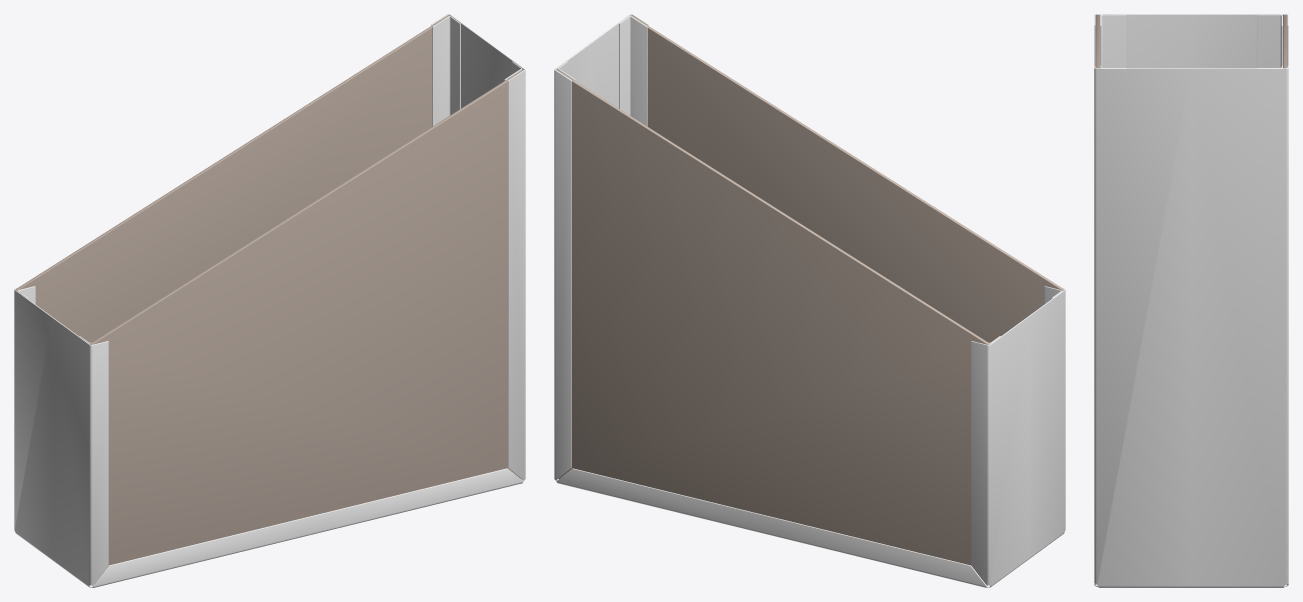
The model's file is Stehsammler.fbx.
3 renders of one model, left to right at view 1: azimuth 30°, elevation 25°; view 2: azimuth 150°, elevation 25°; view 3: azimuth 270°, elevation 25°, orthographic. The views are drawn at different scales.
Parts seen in each view (by area): view 1: Wooden_Sides, Outside_White, Inside_White; view 2: Wooden_Sides, Outside_White, Inside_White; view 3: Outside_White, Inside_White, Wooden_Sides.
Boxes of the visible parts, x1,y1,x2,y2 form: Wooden_Sides: [15, 15, 523, 582]; Outside_White: [14, 14, 525, 587]; Inside_White: [17, 16, 522, 583]; Wooden_Sides: [556, 15, 1064, 582]; Outside_White: [554, 14, 1065, 587]; Inside_White: [557, 16, 1062, 583]; Outside_White: [1094, 14, 1288, 587]; Inside_White: [1100, 14, 1282, 68]; Wooden_Sides: [1095, 14, 1287, 68].
Size of the model in its own units: 21.36 by 19.34 by 6.56.
